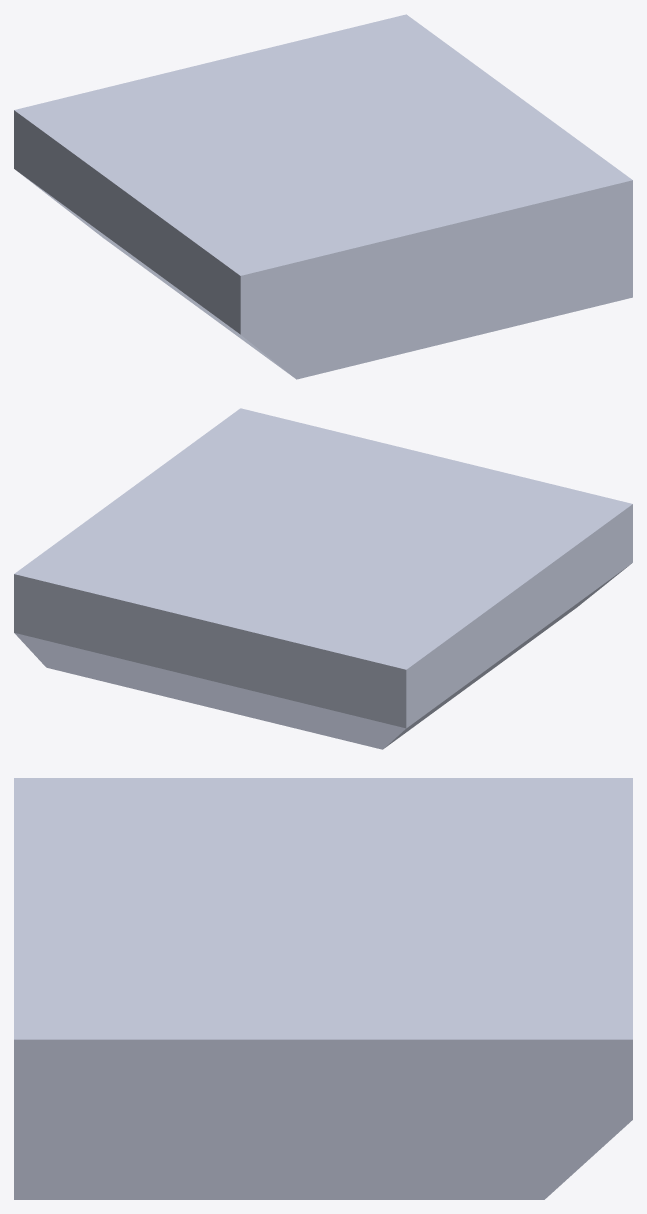
The picture shows the model from 3 angles, top to bottom: view 1: azimuth 30°, elevation 25°; view 2: azimuth 150°, elevation 25°; view 3: azimuth 270°, elevation 25°; orthographic projection. The views are drawn at different scales.
Visible parts, largest first — view 1: object_074; view 2: object_074; view 3: object_074.
Boxes of the visible parts, box(x1,y1,x2,y2) form: object_074: box(14, 14, 632, 379); object_074: box(14, 408, 632, 749); object_074: box(14, 778, 632, 1199).
Bounding box in the file's own units: 0.4375 × 0.125 × 0.4375.
